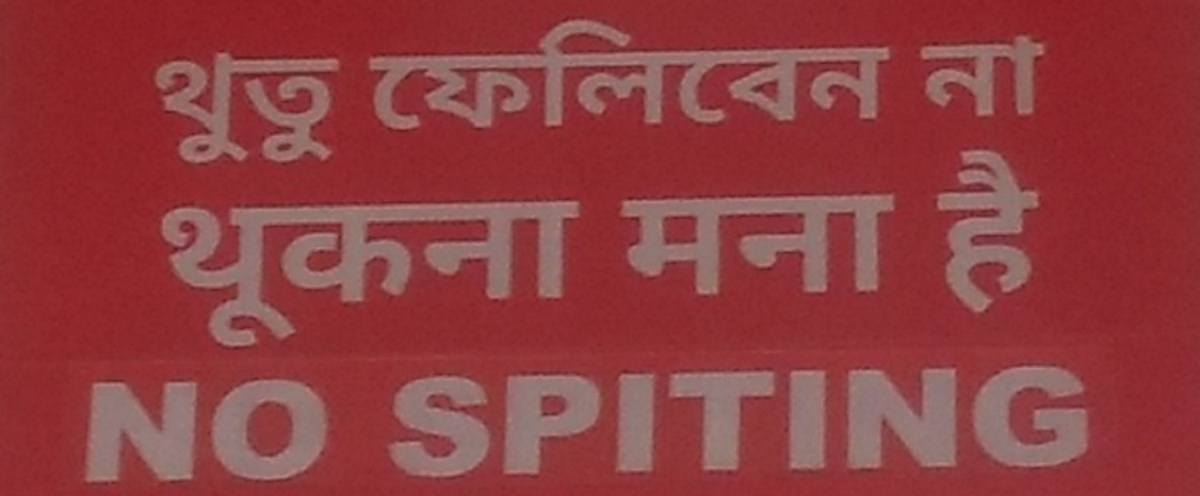text: (929, 143, 944, 325), (945, 143, 960, 325), (961, 143, 976, 325), (977, 143, 992, 325), (993, 143, 1008, 325), (1009, 143, 1024, 325), (1025, 143, 1040, 325), (161, 187, 176, 357), (177, 187, 192, 357), (193, 187, 208, 357), (209, 187, 224, 357), (225, 187, 240, 357), (241, 187, 256, 357), (257, 187, 272, 357), (273, 187, 288, 357), (289, 187, 304, 357), (305, 187, 320, 357), (321, 187, 336, 357), (337, 187, 352, 357), (353, 187, 368, 357), (369, 187, 384, 357), (385, 187, 400, 357), (401, 187, 416, 357), (417, 187, 432, 357), (433, 187, 448, 357), (449, 187, 464, 357), (465, 187, 480, 357), (481, 187, 496, 357), (497, 187, 512, 357), (513, 187, 528, 357), (529, 187, 544, 357), (545, 187, 560, 357), (561, 187, 576, 357), (916, 143, 928, 325), (369, 4, 384, 139), (385, 4, 400, 139), (401, 4, 416, 139), (417, 4, 432, 139), (433, 4, 448, 139), (449, 4, 464, 139), (465, 4, 480, 139), (481, 4, 496, 139), (497, 4, 512, 139), (513, 4, 528, 139), (529, 4, 544, 139), (545, 4, 560, 139), (561, 4, 576, 139), (577, 4, 592, 139), (593, 4, 608, 139), (609, 4, 624, 139), (625, 4, 640, 139), (641, 4, 656, 139), (657, 4, 672, 139), (673, 4, 688, 139), (689, 4, 704, 139), (705, 4, 720, 139), (721, 4, 736, 139), (737, 4, 752, 139), (753, 4, 768, 139), (769, 4, 784, 139), (785, 4, 800, 139), (801, 4, 816, 139), (817, 4, 832, 139), (833, 4, 848, 139), (849, 4, 864, 139), (865, 4, 880, 139), (881, 4, 896, 139), (161, 42, 176, 173), (177, 42, 192, 173), (193, 42, 208, 173), (209, 42, 224, 173), (225, 42, 240, 173), (241, 42, 256, 173), (257, 42, 272, 173), (273, 42, 288, 173), (289, 42, 304, 173), (305, 42, 320, 173), (321, 42, 336, 173), (385, 355, 400, 481), (401, 355, 416, 481), (417, 355, 432, 481), (433, 355, 448, 481), (449, 355, 464, 481), (465, 355, 480, 481), (481, 355, 496, 481), (497, 355, 512, 481), (513, 355, 528, 481), (529, 355, 544, 481), (545, 355, 560, 481), (561, 355, 576, 481), (577, 355, 592, 481), (593, 355, 608, 481), (609, 355, 624, 481), (625, 355, 640, 481), (641, 355, 656, 481), (657, 355, 672, 481), (673, 355, 688, 481), (689, 355, 704, 481), (705, 355, 720, 481), (721, 355, 736, 481), (737, 355, 752, 481), (753, 355, 768, 481), (769, 355, 784, 481), (785, 355, 800, 481), (801, 355, 816, 481), (817, 355, 832, 481), (833, 355, 848, 481), (849, 355, 864, 481), (865, 355, 880, 481), (881, 355, 896, 481), (897, 355, 912, 481), (913, 355, 928, 481), (929, 355, 944, 481), (945, 355, 960, 481), (961, 355, 976, 481), (977, 355, 992, 481), (993, 355, 1008, 481), (1009, 355, 1024, 481), (1025, 355, 1040, 481), (1041, 355, 1056, 481), (1057, 355, 1072, 481), (1073, 355, 1088, 481), (625, 180, 640, 305), (641, 180, 656, 305), (657, 180, 672, 305), (673, 180, 688, 305), (689, 180, 704, 305), (705, 180, 720, 305), (721, 180, 736, 305), (737, 180, 752, 305), (753, 180, 768, 305), (769, 180, 784, 305), (785, 180, 800, 305), (801, 180, 816, 305), (817, 180, 832, 305), (833, 180, 848, 305), (849, 180, 864, 305), (865, 180, 880, 305), (881, 180, 896, 305), (97, 370, 112, 485), (113, 370, 128, 485), (129, 370, 144, 485), (145, 370, 160, 485), (161, 370, 176, 485), (177, 370, 192, 485), (193, 370, 208, 485), (209, 370, 224, 485), (225, 370, 240, 485), (241, 370, 256, 485), (257, 370, 272, 485), (273, 370, 288, 485), (289, 370, 304, 485), (305, 370, 320, 485), (321, 370, 336, 485), (577, 187, 587, 357), (151, 187, 160, 357), (1041, 29, 1057, 122), (149, 42, 160, 173), (337, 42, 348, 173), (929, 29, 944, 122), (945, 29, 960, 122), (961, 29, 976, 122), (977, 29, 992, 122), (993, 29, 1008, 122), (1009, 29, 1024, 122), (1025, 29, 1040, 122), (1089, 355, 1100, 481), (613, 180, 624, 305), (914, 29, 928, 122), (1041, 143, 1048, 325), (85, 370, 96, 485), (897, 180, 905, 305), (361, 4, 368, 139), (897, 4, 904, 139), (337, 370, 342, 485), (383, 355, 384, 481)
